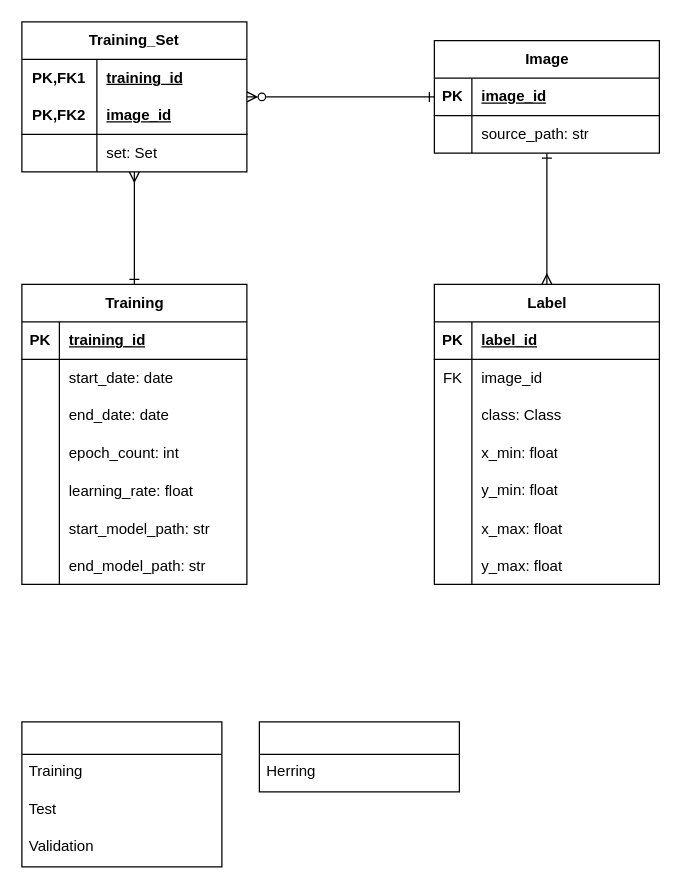
Some shapes in this 681 by 893 pixel diagram are drawn without their labels. Here are the shapes that lost their labels. From the top down, the box of each, then its label:
(258, 721, 459, 792): Class
(21, 721, 222, 867): Set
